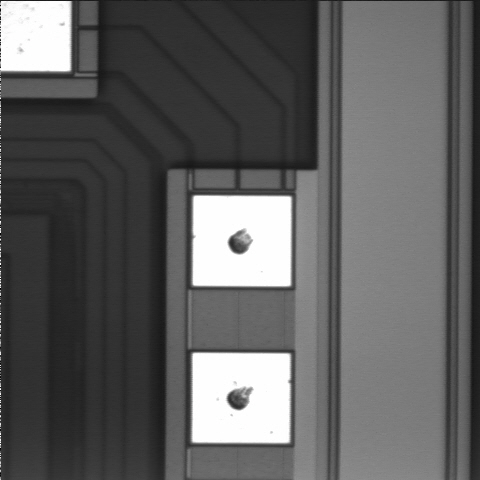pad: (193, 196, 291, 286), (192, 353, 290, 443)
